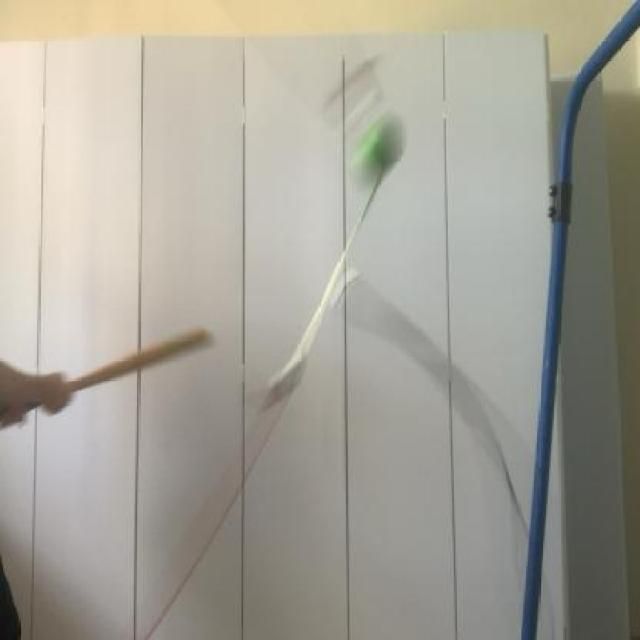baseball: (346, 105, 419, 197)
